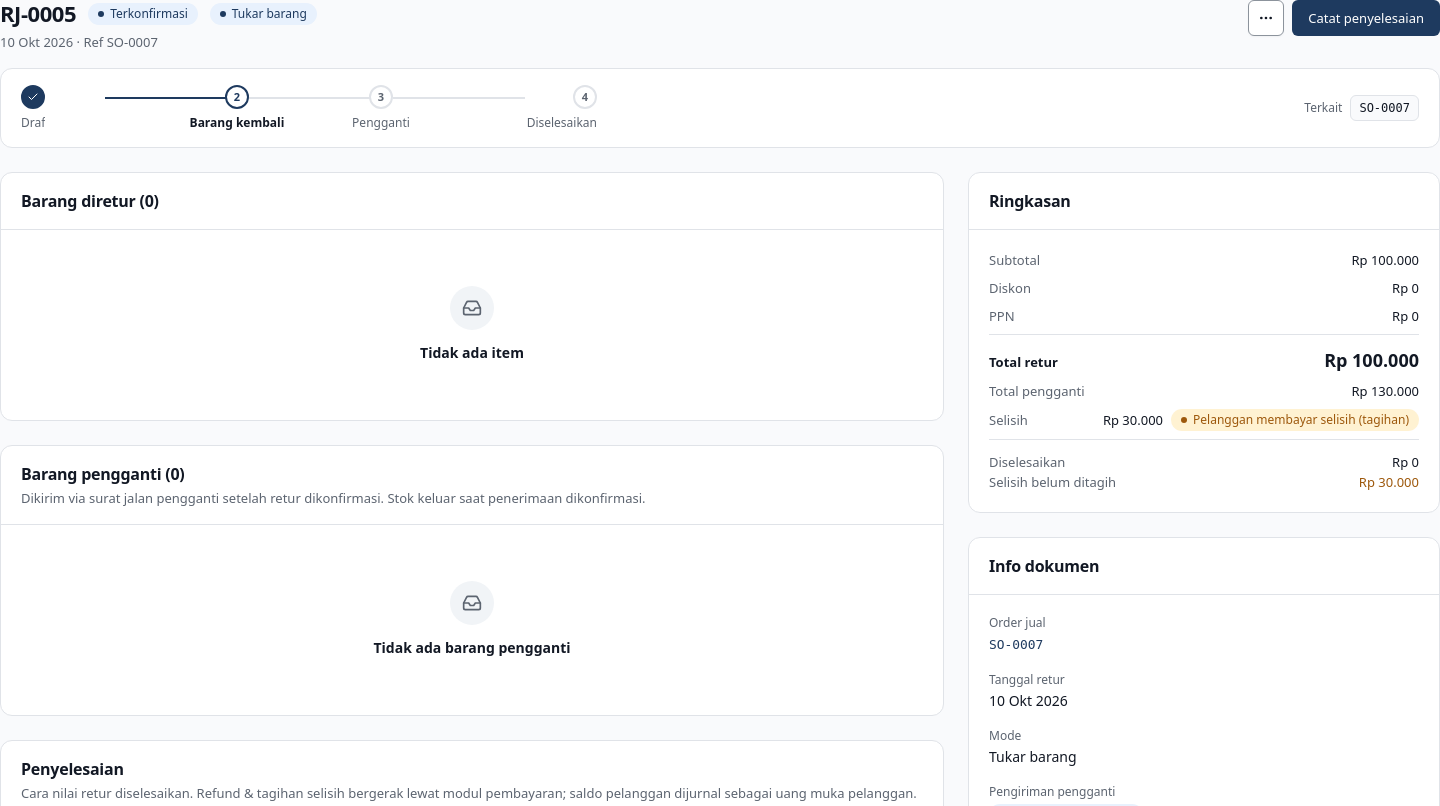
Test: detail retur jual: penyelesaian menurut arah selisih (K-04c) › tukar lebih mahal hanya menawarkan Tagih pembayaran sebesar selisih terbuka
Click the button "Catat penyelesaian" at x=1366, y=18, box [1292,0,1439,36]
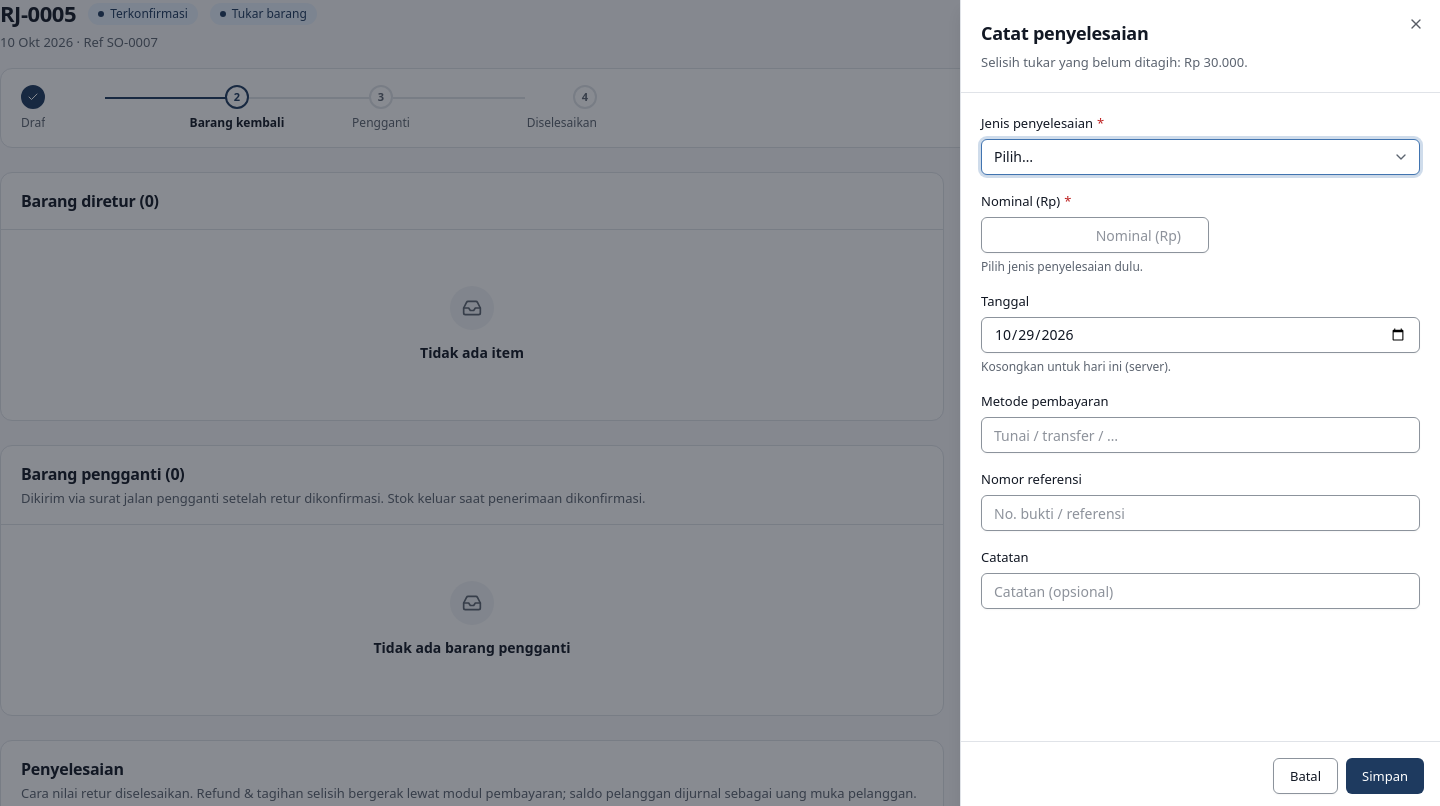
Select "Tagih pembayaran" in the dropdown at x=1200, y=157, box [981,139,1420,175]
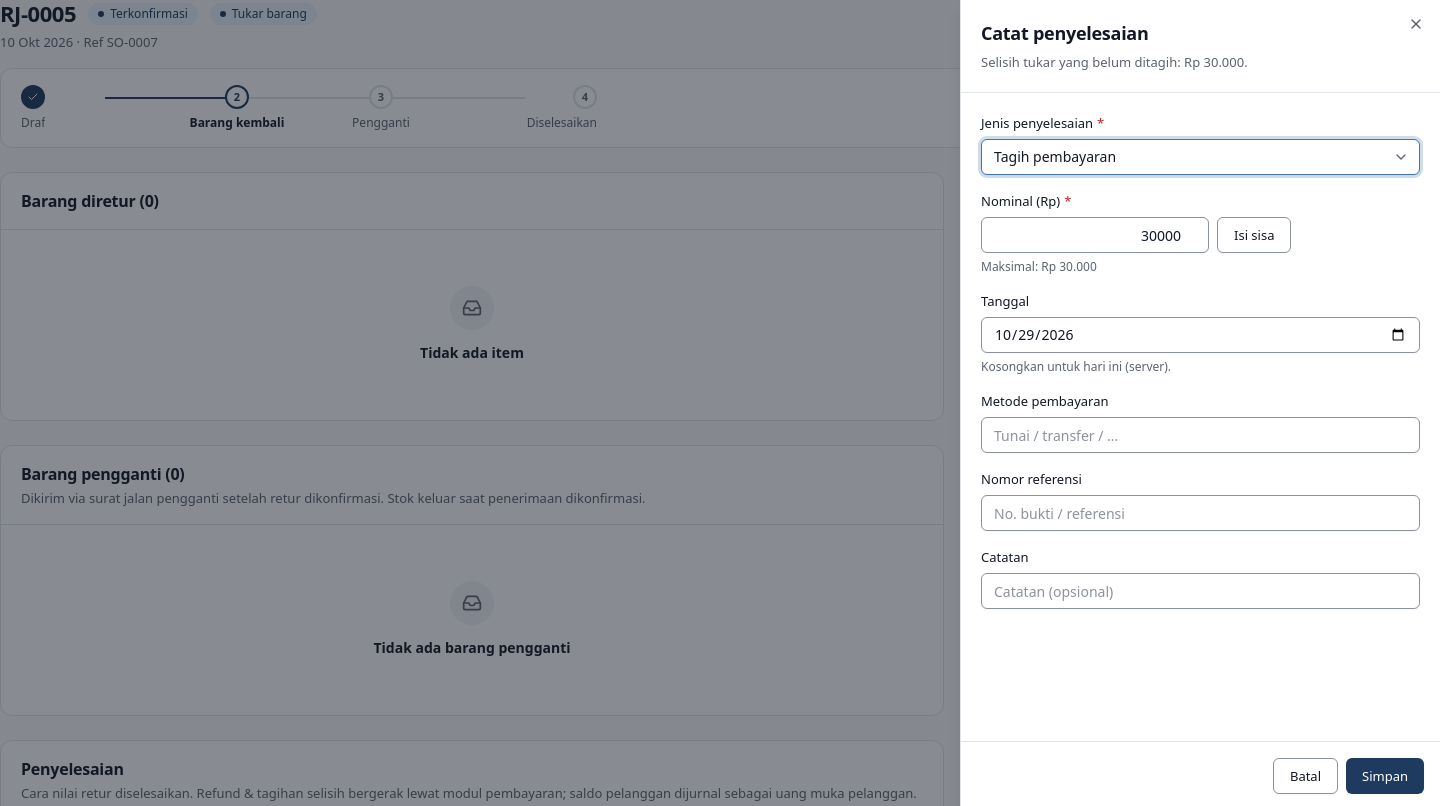
Expected: the number field with placeholder "Nominal (Rp)" holds "30000", [981,217,1209,253]
